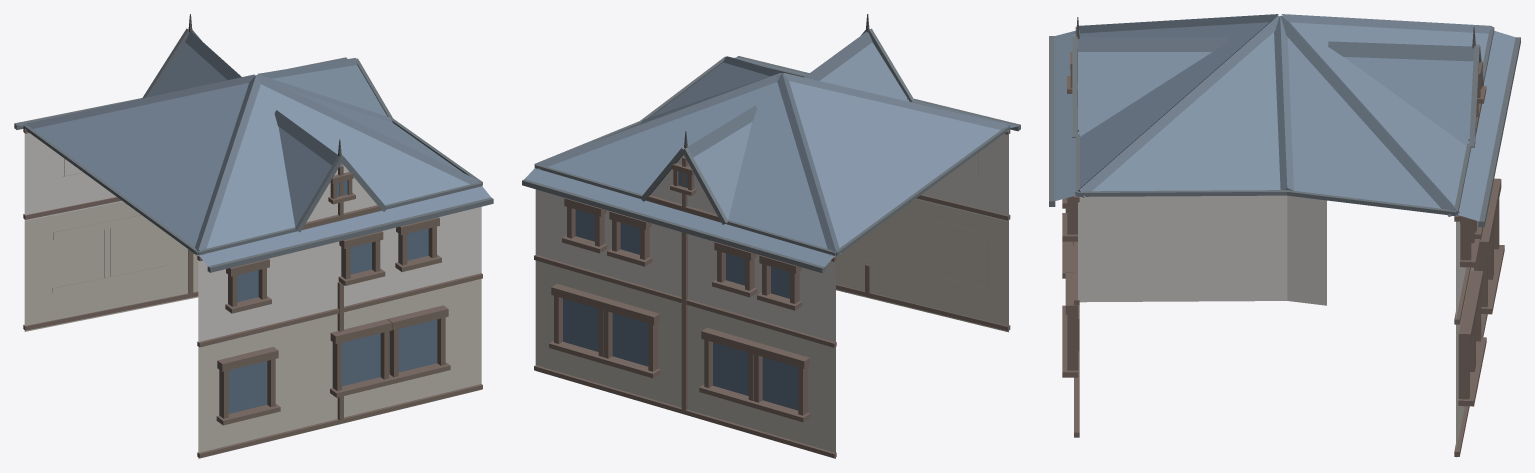
The picture shows the model from 3 angles, left to right: view 1: azimuth 30°, elevation 25°; view 2: azimuth 150°, elevation 25°; view 3: azimuth 270°, elevation 25°; orthographic projection. The views are drawn at different scales.
Parts seen in each view (by area): view 1: B099_visible; view 2: B099_visible; view 3: B099_visible.
Part boxes in pixels (box(x1,y1,x2,y2)): B099_visible: box(14, 14, 493, 458); B099_visible: box(522, 14, 1020, 458); B099_visible: box(1049, 14, 1520, 457).
Size of the model in its own units: 10.5 by 8.99 by 11.19.
